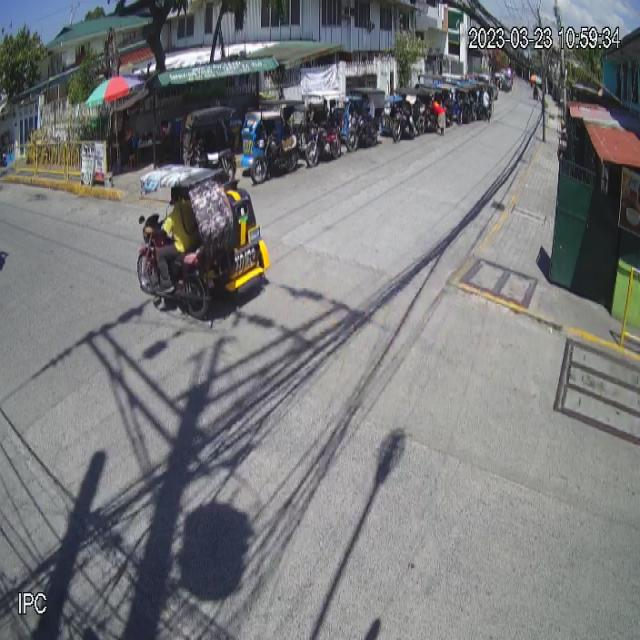Tricycle: (136, 166, 270, 318)
